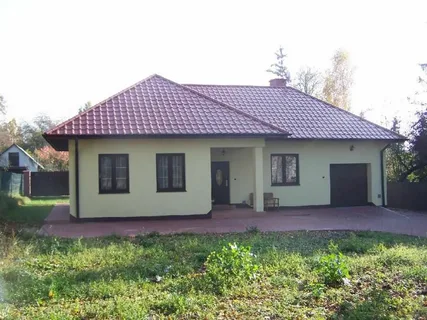private_hause: (64, 76, 398, 216)
